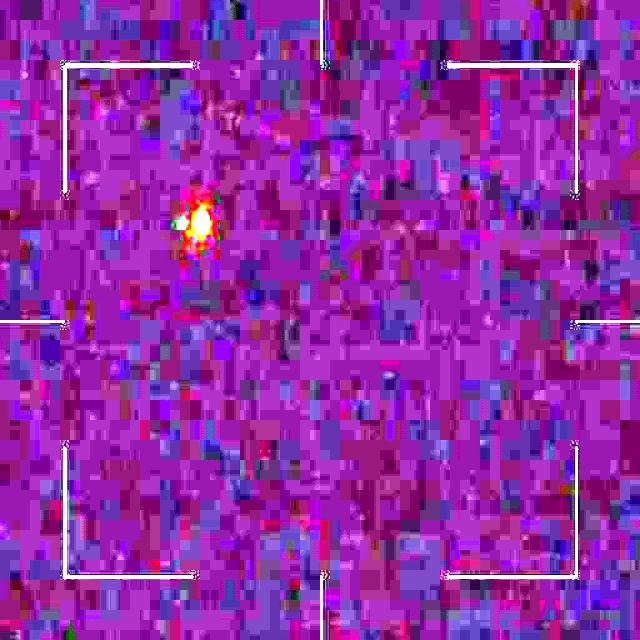bird: (176, 199, 212, 258)
